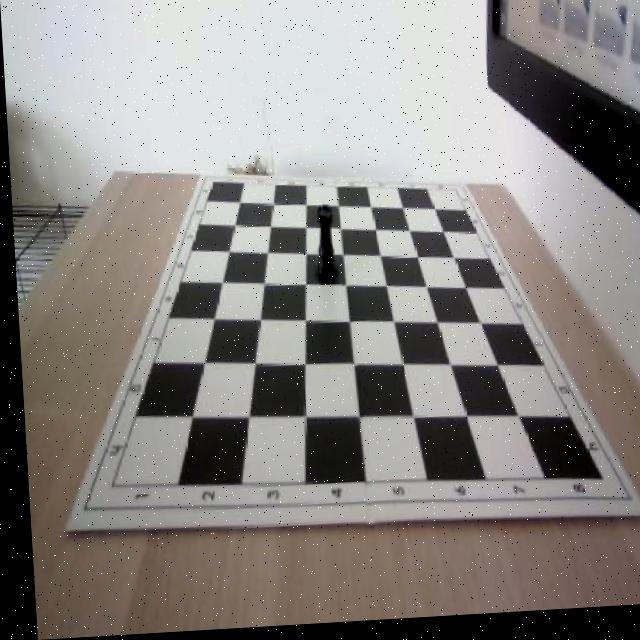black-queen: (309, 208, 336, 287)
